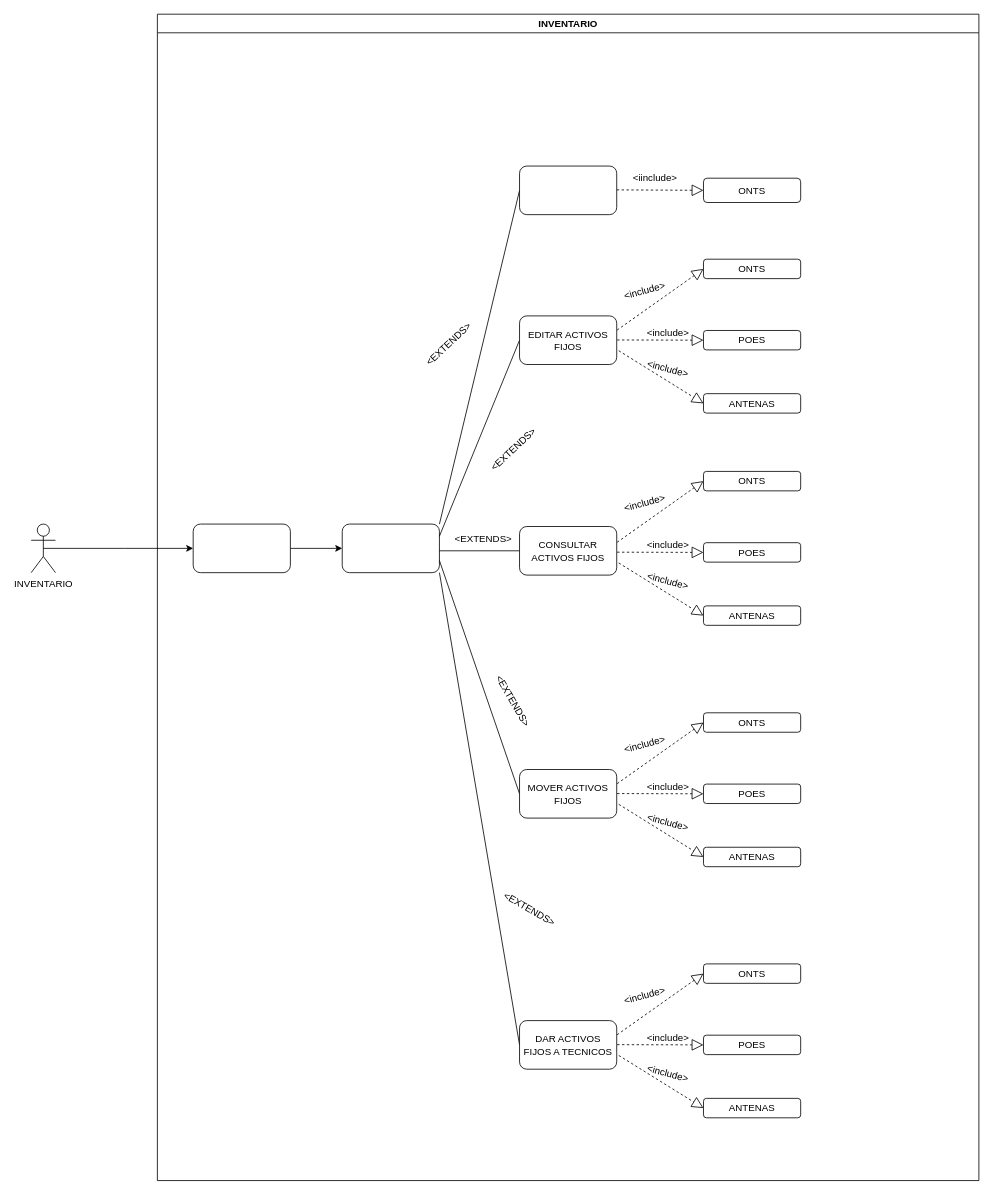
Some shapes in this 993 by 1195 pixel diagram are drawn without their labels. Here are the shapes that lost their labels. From the top down, the centre of each, then its label:
At point 568,190: "REGISTRAR ACTIVOS FIJOS".
At point 241,548: "AUTENTIFICACION DE USUARIO".
At point 390,548: "GESTIONAR ONTS".
